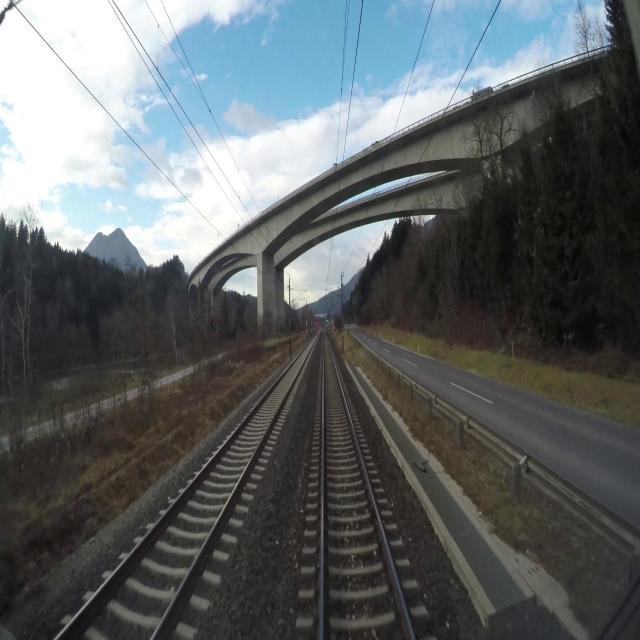rail-track: (60, 342, 312, 639), (324, 332, 410, 639)
